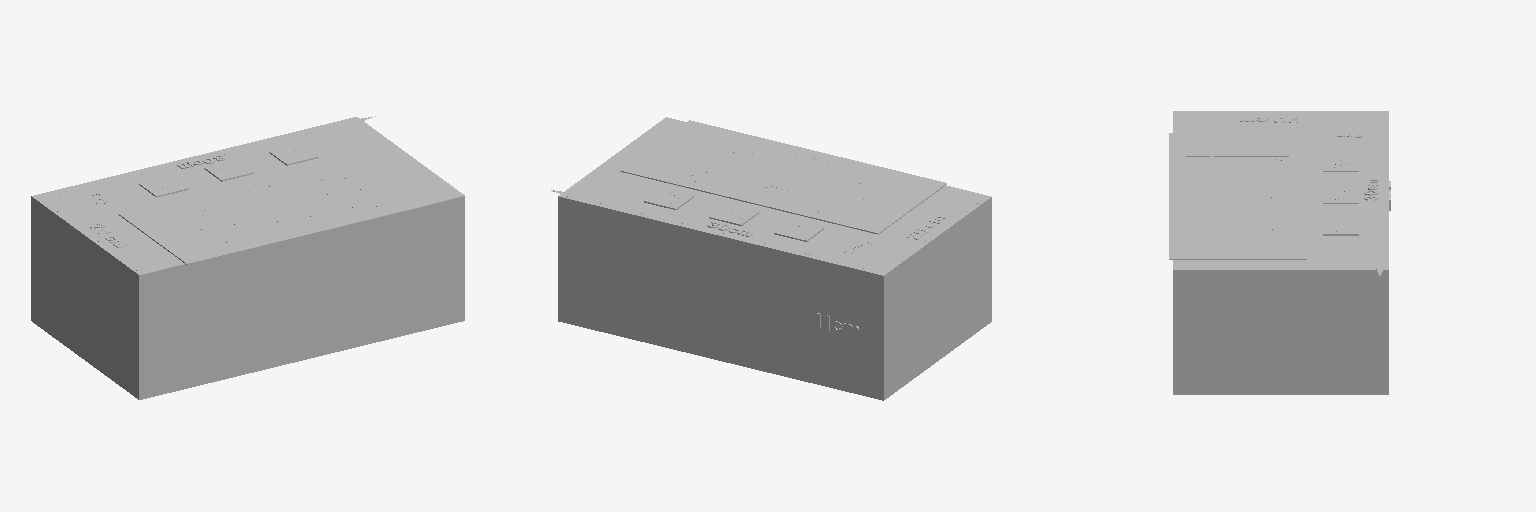
Rendered from Proje.obj.
3 views of the same model, side by side, from view 1: azimuth 30°, elevation 25°; view 2: azimuth 150°, elevation 25°; view 3: azimuth 270°, elevation 25° (orthographic).
Parts seen in each view (by area): view 1: Part4Mtl_Obj, Union1Mtl_Obj, Part1Mtl_Obj, Union8Mtl_Obj; view 2: Part4Mtl_Obj, Union1Mtl_Obj, Part1Mtl_Obj, Union8Mtl_Obj; view 3: Part4Mtl_Obj, Union1Mtl_Obj, Union8Mtl_Obj, Part1Mtl_Obj.
Boxes of the visible parts, box(x1,y1,x2,y2) form: Part4Mtl_Obj: box(31, 117, 464, 399); Union1Mtl_Obj: box(38, 116, 444, 273); Part1Mtl_Obj: box(139, 144, 318, 197); Union8Mtl_Obj: box(173, 168, 388, 247); Part4Mtl_Obj: box(558, 117, 991, 400); Union1Mtl_Obj: box(551, 120, 985, 389); Part1Mtl_Obj: box(644, 188, 823, 241); Union8Mtl_Obj: box(678, 137, 893, 216); Part4Mtl_Obj: box(1173, 111, 1388, 394); Union1Mtl_Obj: box(1169, 111, 1390, 275); Union8Mtl_Obj: box(1183, 155, 1291, 234); Part1Mtl_Obj: box(1323, 155, 1358, 235).
Bounding box in the file's own units: 12.55 × 4.47 × 7.05.